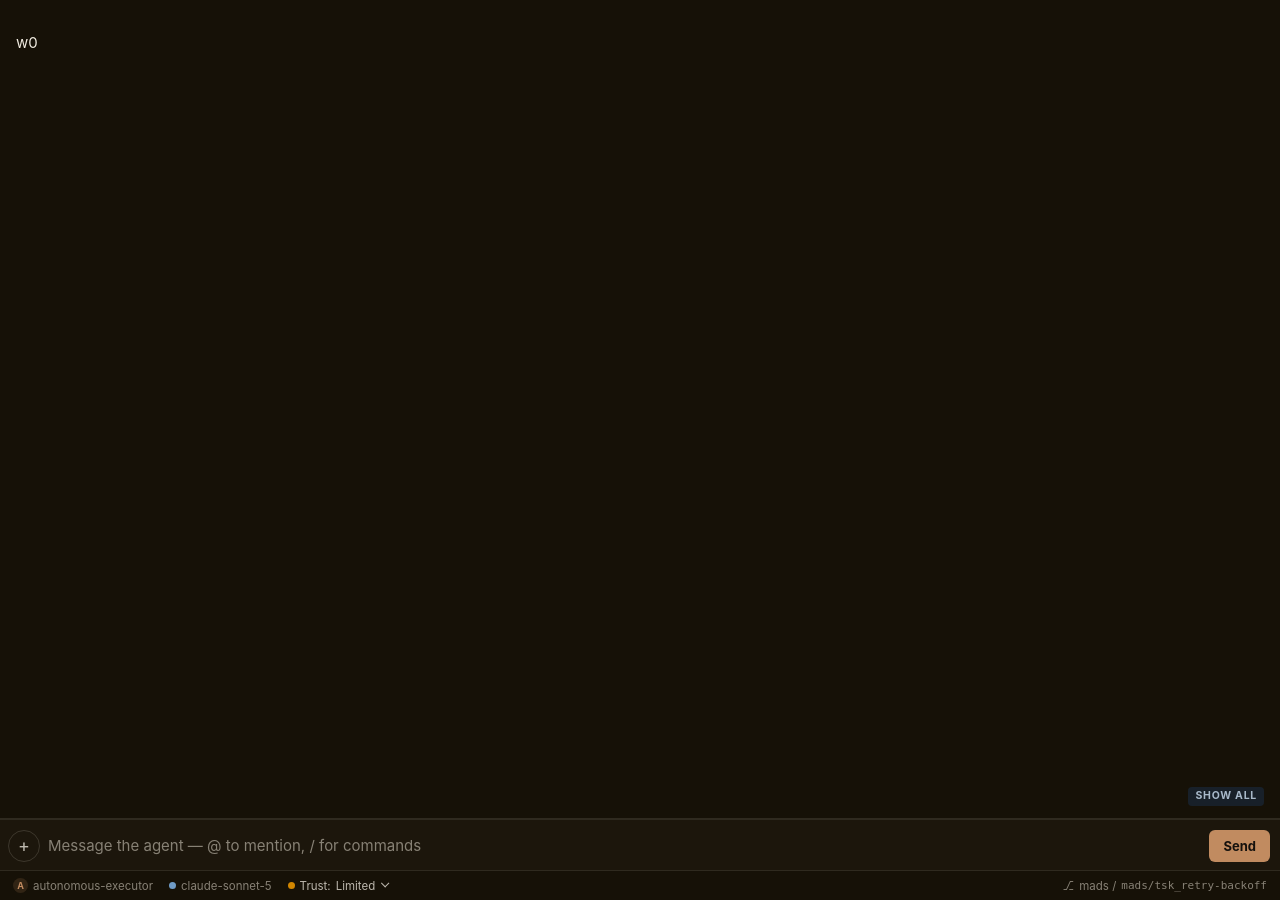
it: ConversationTab — paced reveal › Show all reveals the rest at once
Expected: the text box with placeholder "Message the agent — @ to mention, / for commands" is shown, [46,830,1204,862]
Click the button "Show all" at (1226, 796), box [1188,787,1264,806]
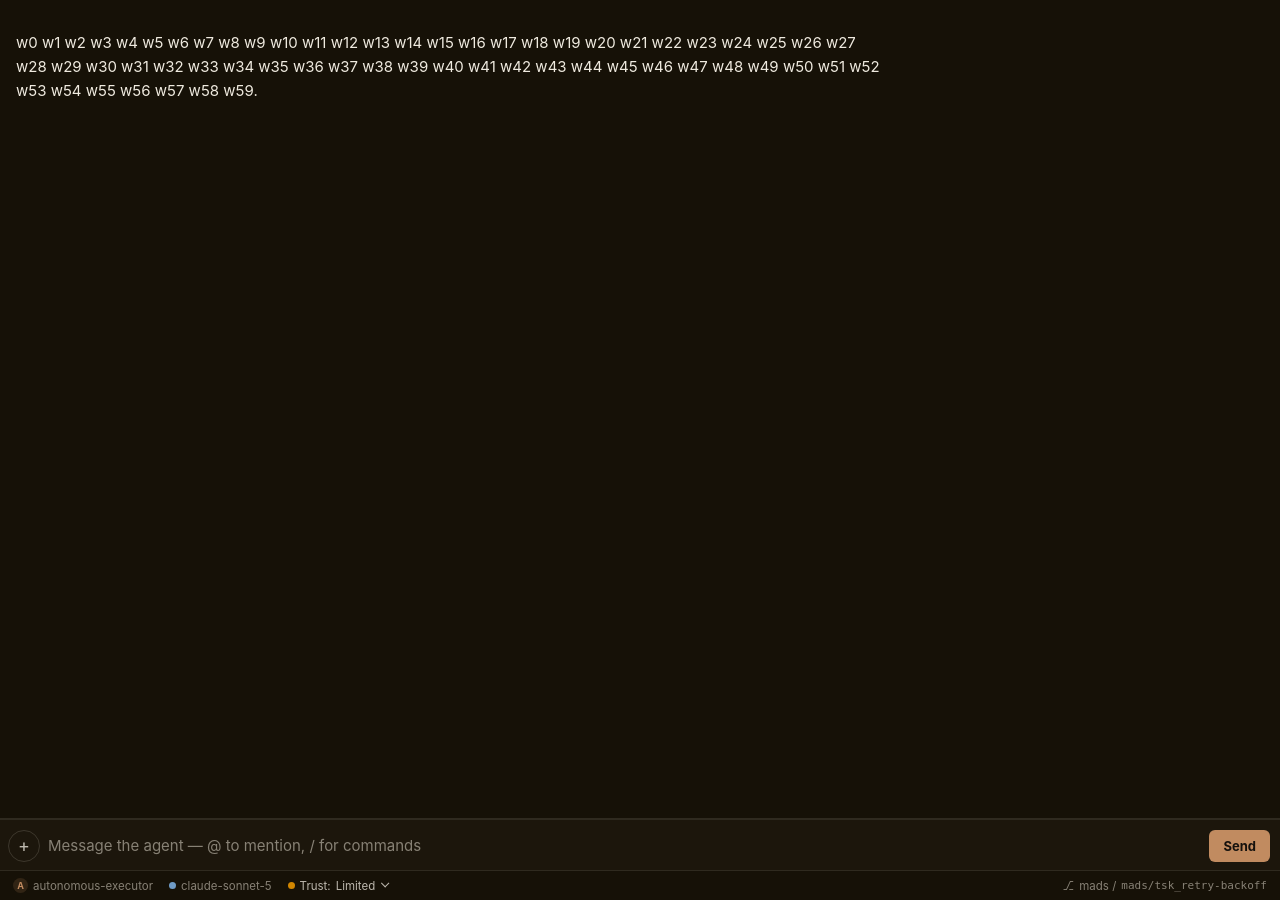
Now the button "Show all" is gone
